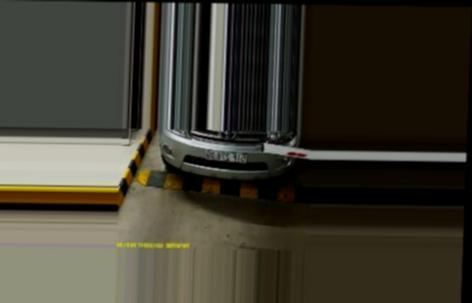License_Plate: (200, 149, 251, 163)
